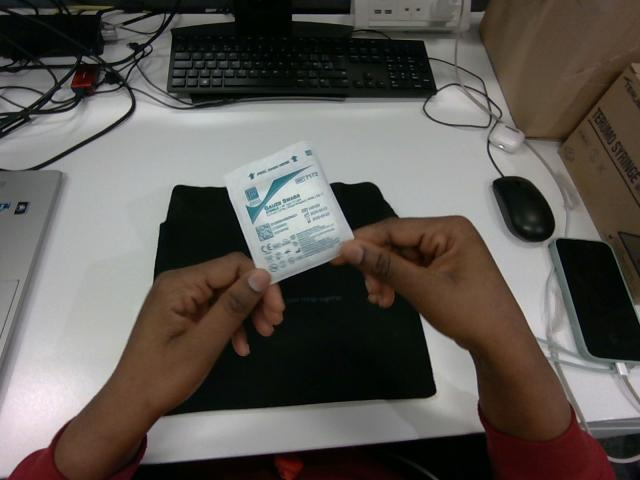gauze: (224, 142, 352, 282)
